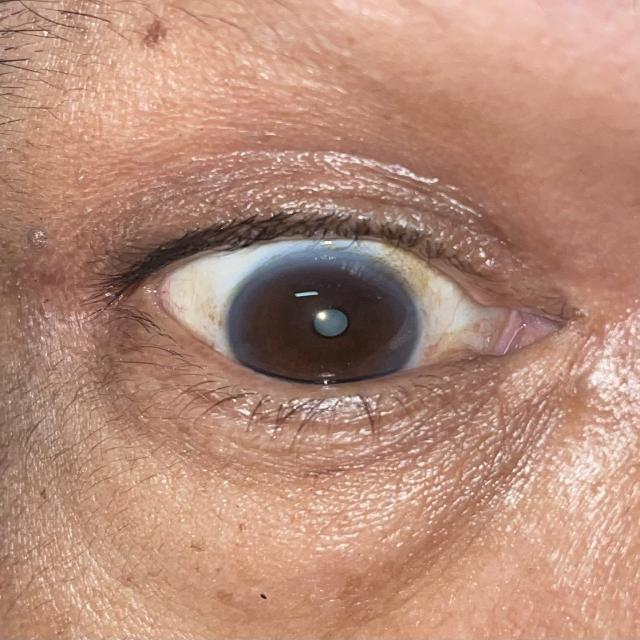Cataract: (226, 247, 422, 405)
